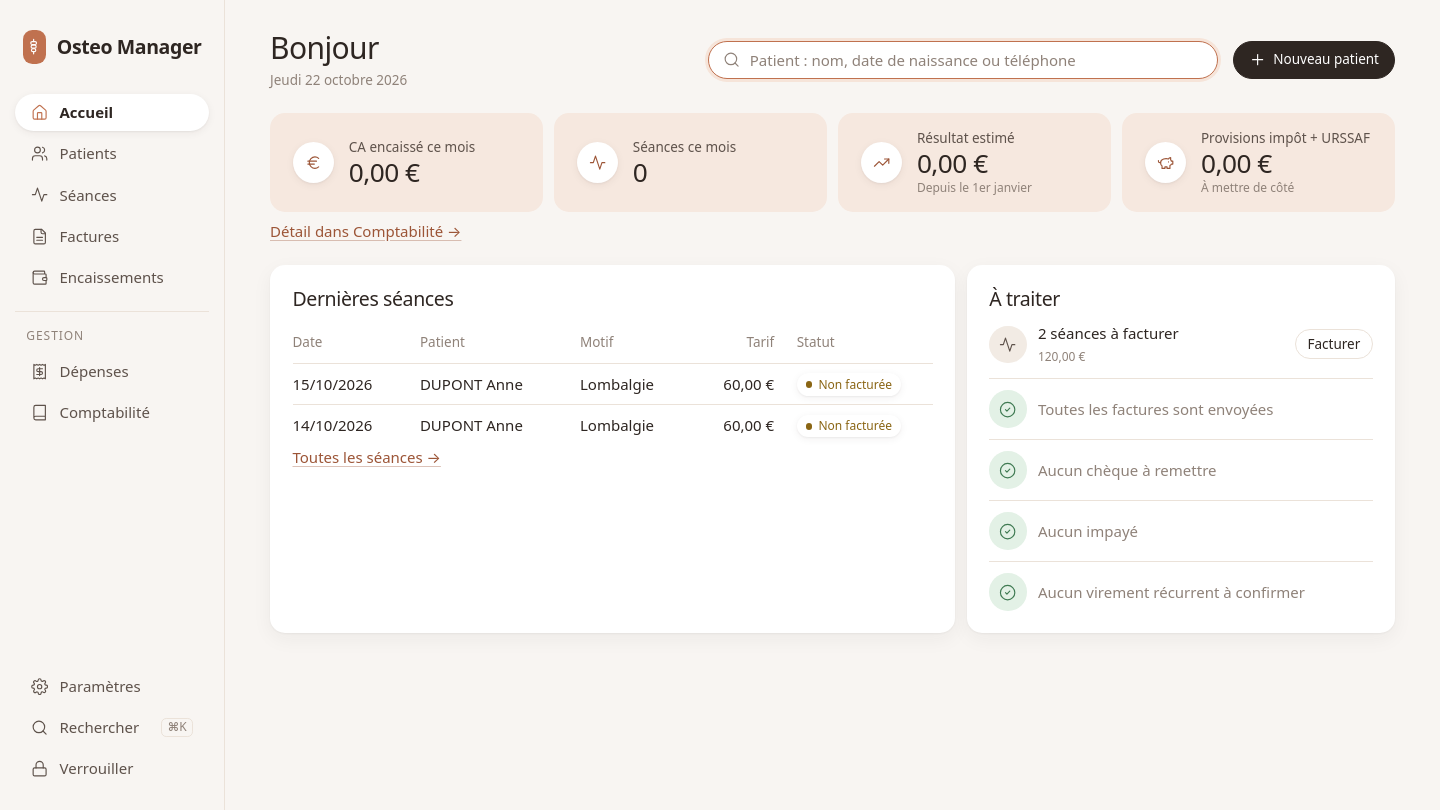
Test case: « Ouvrir » ouvre la séance dans la fiche du patient
Click the button with aria-label "Facturer : 2 séances à facturer": point(1334, 344) x1=1295 y1=329 x2=1372 y2=359
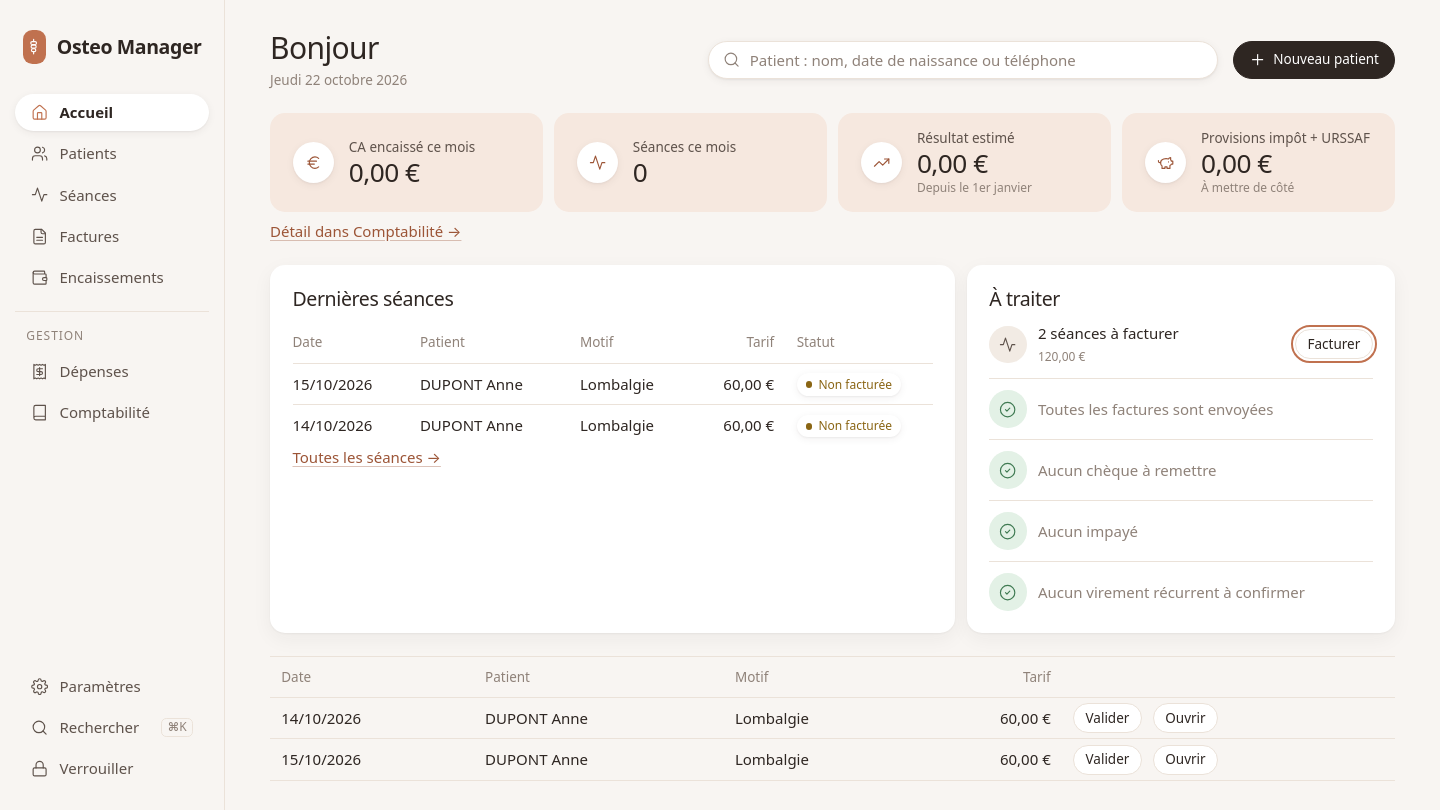
Click the 1st button "Ouvrir": point(1185, 718) x1=1153 y1=703 x2=1218 y2=733
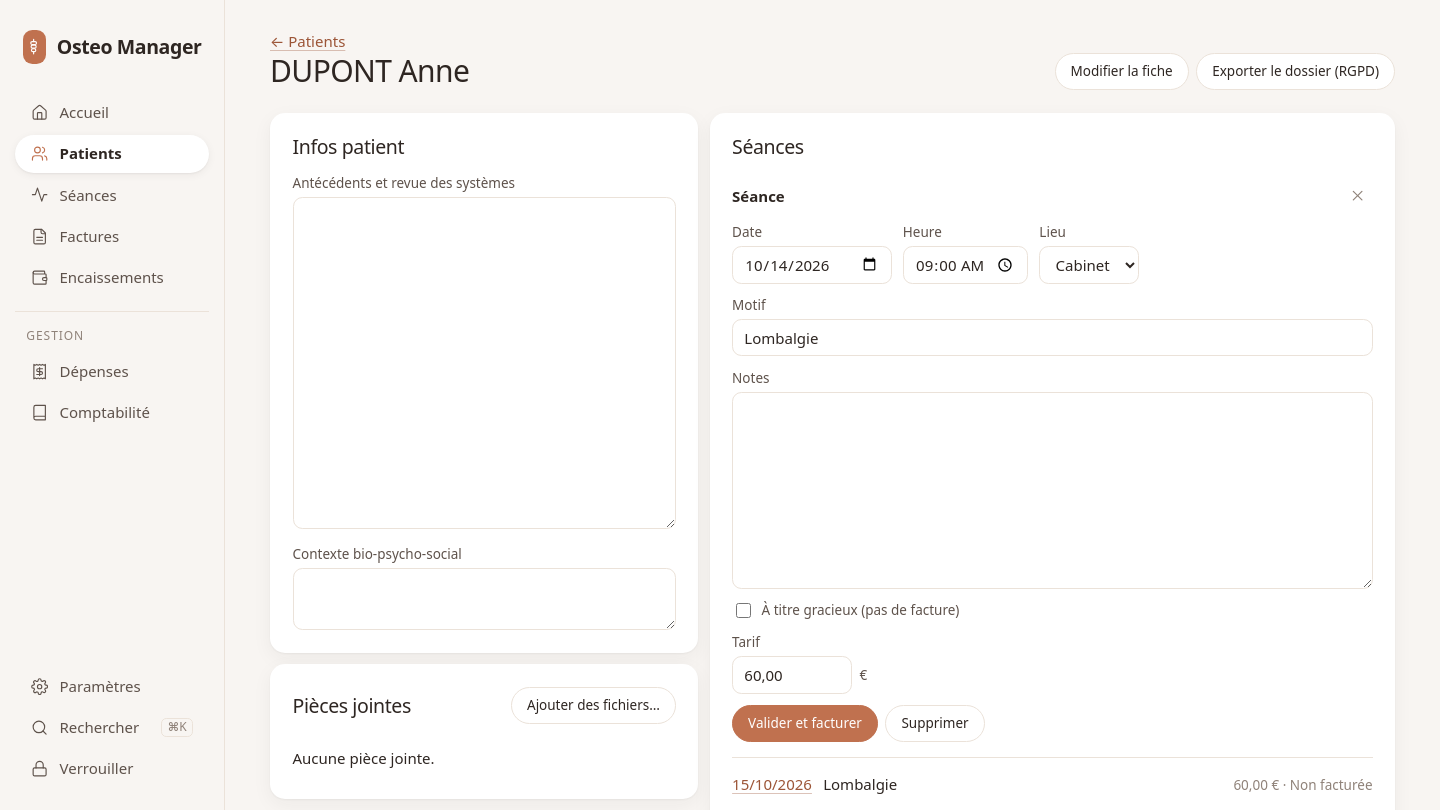
Result: the heading "DUPONT Anne" is shown at x1=270 y1=53 x2=469 y2=89
Result: the field labelled "Motif" holds "Lombalgie" at x1=732 y1=319 x2=1372 y2=356
Result: the date field labelled "Date" holds "2026-10-14" at x1=732 y1=246 x2=892 y2=284
